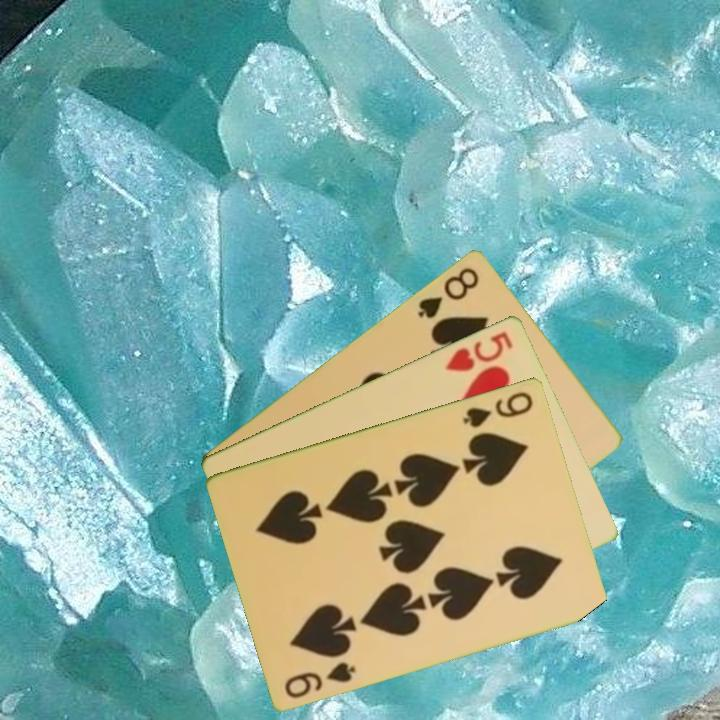5h: (442, 327, 516, 375)
8s: (413, 263, 483, 321)
9s: (281, 658, 359, 701), (459, 387, 536, 430)
